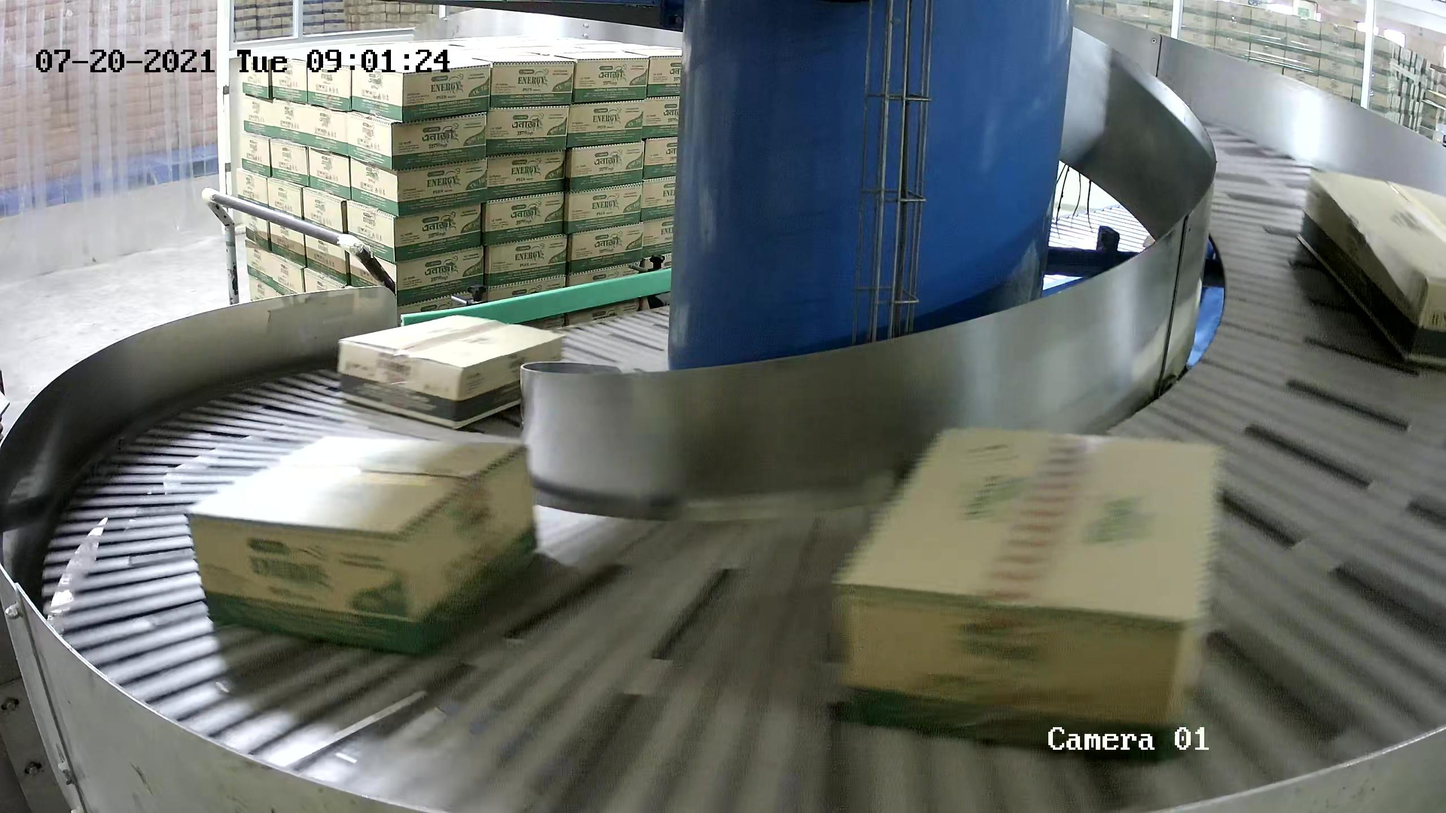Box: (828, 423, 1220, 767), (182, 431, 540, 658), (1297, 166, 1446, 367), (337, 313, 567, 430)
